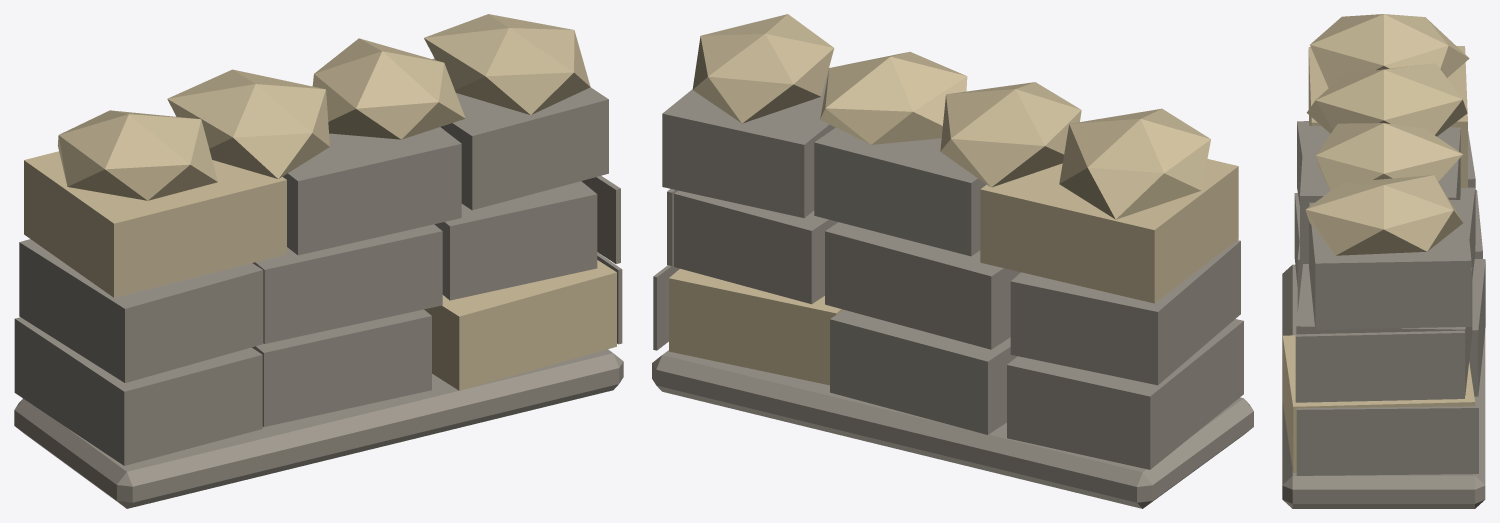
File: Wall_Meadow.fbx
3 renders of one model, left to right at view 1: azimuth 30°, elevation 25°; view 2: azimuth 150°, elevation 25°; view 3: azimuth 270°, elevation 25°, orthographic. The views are drawn at different scales.
Visible parts, largest first — view 1: Wall_Meadow; view 2: Wall_Meadow; view 3: Wall_Meadow.
Part boxes in pixels (<box>): Wall_Meadow: <box>14,14,623,508</box>; Wall_Meadow: <box>652,14,1253,508</box>; Wall_Meadow: <box>1282,14,1485,508</box>.
Size of the model in its own units: 2.01 by 1.3 by 0.781.
